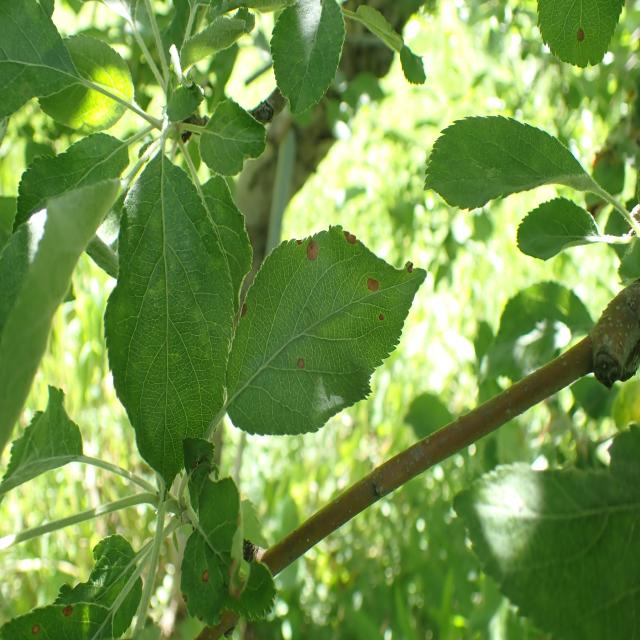Black Rot: (290, 339, 316, 382), (300, 228, 324, 270), (334, 214, 358, 256), (361, 257, 382, 302), (198, 562, 218, 590)
